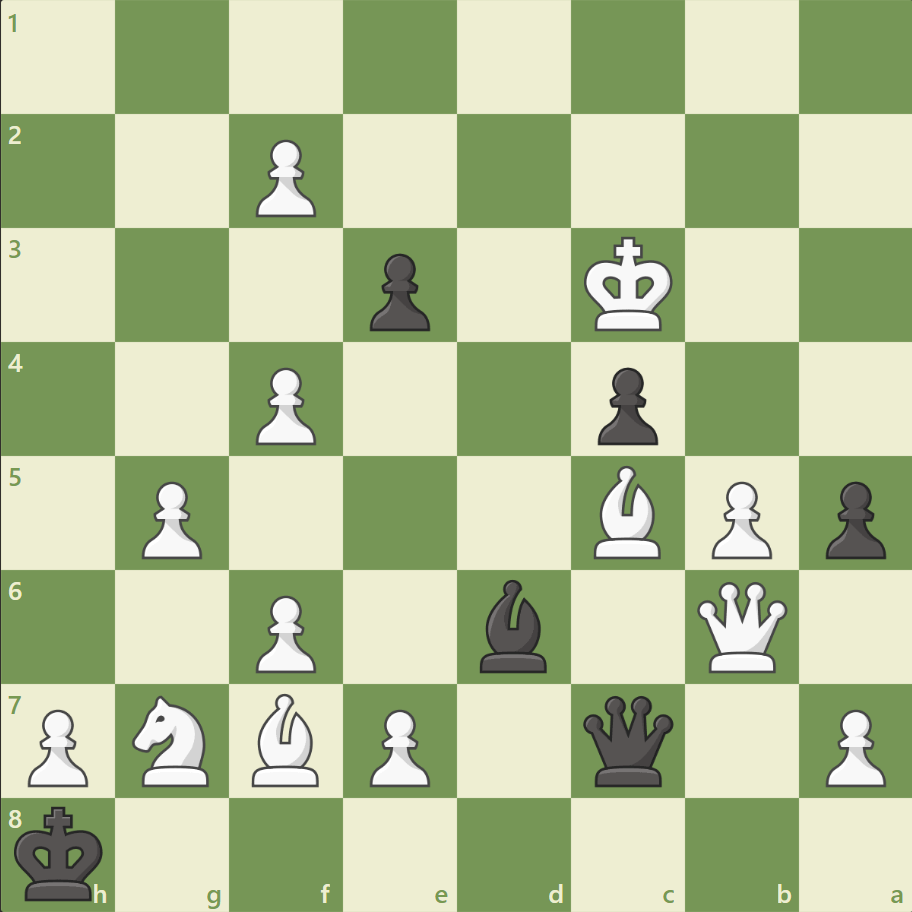B: (244, 687, 328, 790), (585, 460, 669, 563)
K: (579, 231, 679, 339)
N: (124, 688, 222, 791)
P: (20, 700, 95, 791), (247, 586, 322, 677), (701, 473, 776, 564), (133, 473, 208, 564), (247, 359, 322, 450), (247, 132, 322, 223), (815, 700, 889, 791), (361, 700, 435, 791)
Q: (691, 576, 790, 676)
b: (471, 574, 555, 676)
k: (11, 798, 111, 906)
p: (815, 473, 889, 564), (588, 359, 662, 450), (361, 246, 435, 337)
q: (578, 690, 677, 789)
